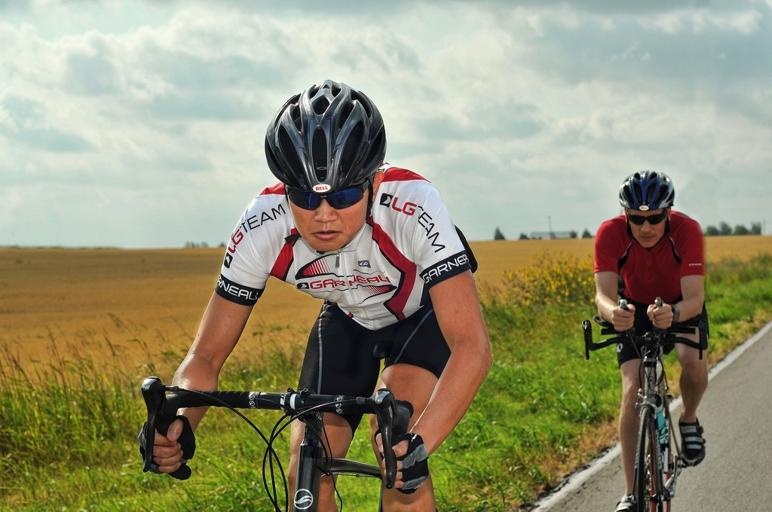non-vehicle: (137, 373, 413, 511), (581, 296, 704, 512)
